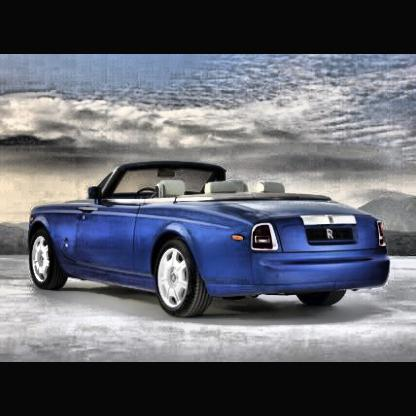Rolls-Royce Phantom Drophead Coupe Convertible 2012: (27, 157, 396, 321)
